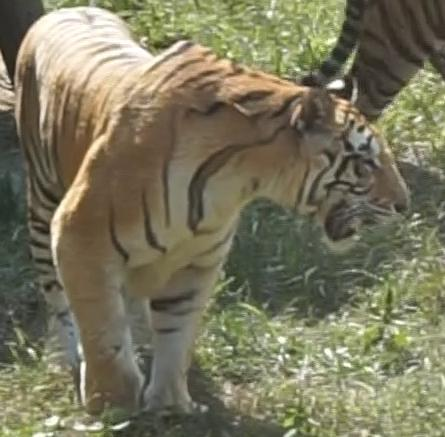tiger: (0, 7, 407, 414)
